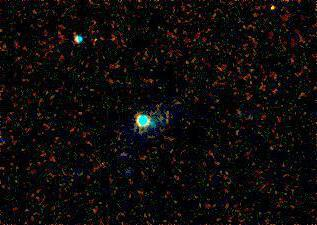star: (260, 0, 290, 23)
